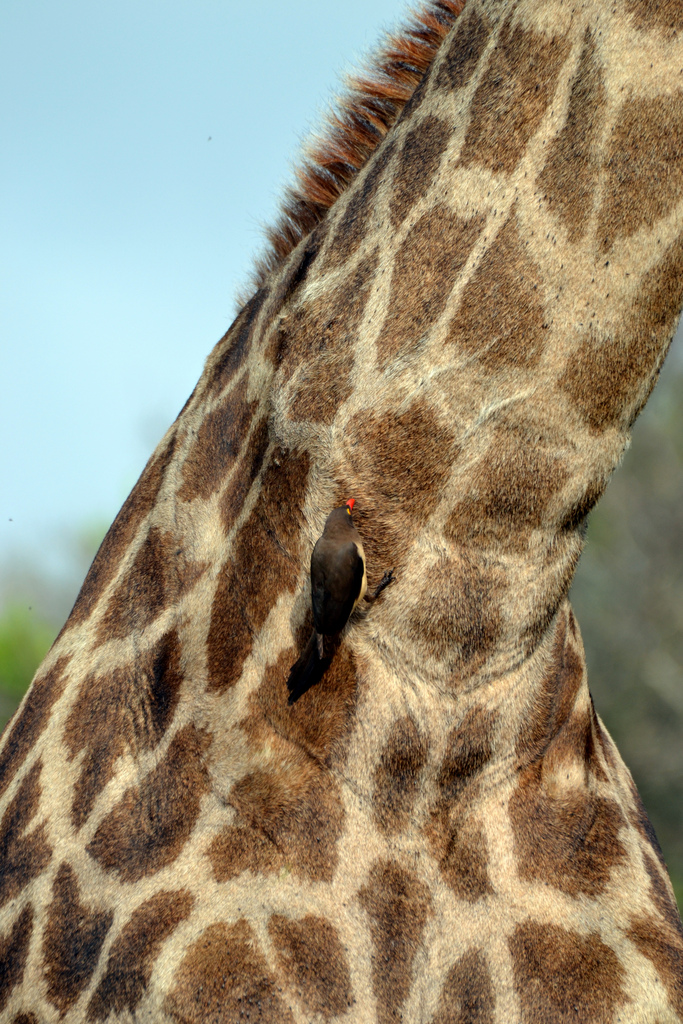giraffe: (49, 16, 642, 967)
